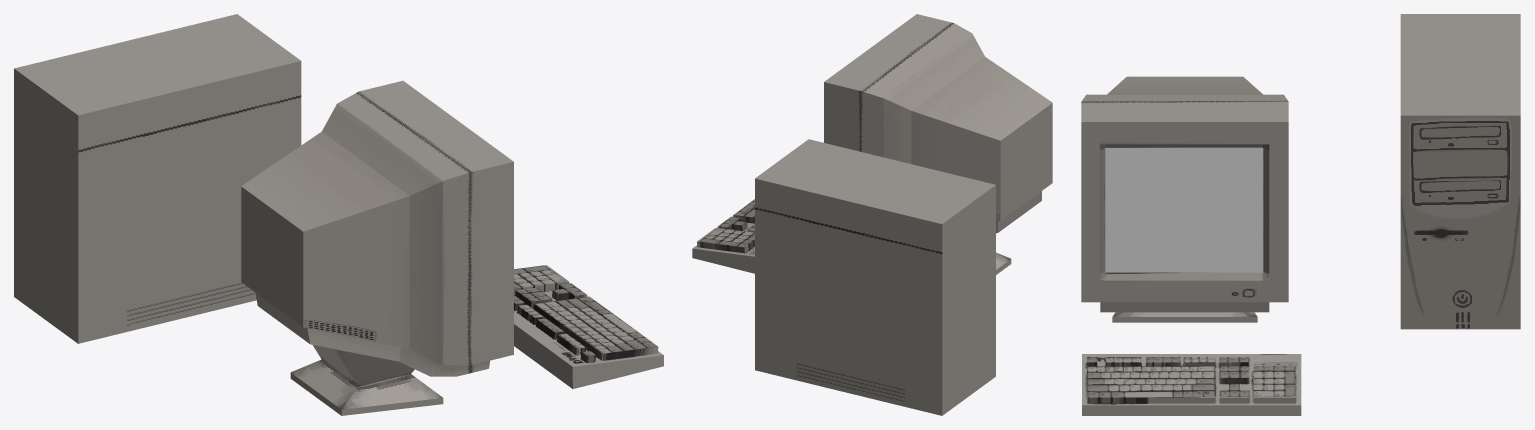
The model's file is computawithSCREEN.glb.
3 renders of one model, left to right at view 1: azimuth 30°, elevation 25°; view 2: azimuth 150°, elevation 25°; view 3: azimuth 270°, elevation 25°, orthographic. The views are drawn at different scales.
Visible parts, largest first — view 1: Cube, Cube.001, Cube.002; view 2: Cube, Cube.001, Cube.002; view 3: Cube, Cube.001, Plane, Cube.002.
Part boxes in pixels (x1,y1,x2,y2): Cube: [14, 14, 301, 343]; Cube.001: [241, 80, 513, 415]; Cube.002: [514, 265, 663, 388]; Cube: [755, 139, 995, 415]; Cube.001: [824, 14, 1052, 274]; Cube.002: [692, 199, 754, 273]; Cube: [1400, 14, 1520, 329]; Cube.001: [1081, 76, 1288, 322]; Plane: [1105, 147, 1263, 272]; Cube.002: [1082, 354, 1301, 415].
Bounding box in the file's own units: 3.94 × 2.2 × 3.86.
1 material, 1 textured.
